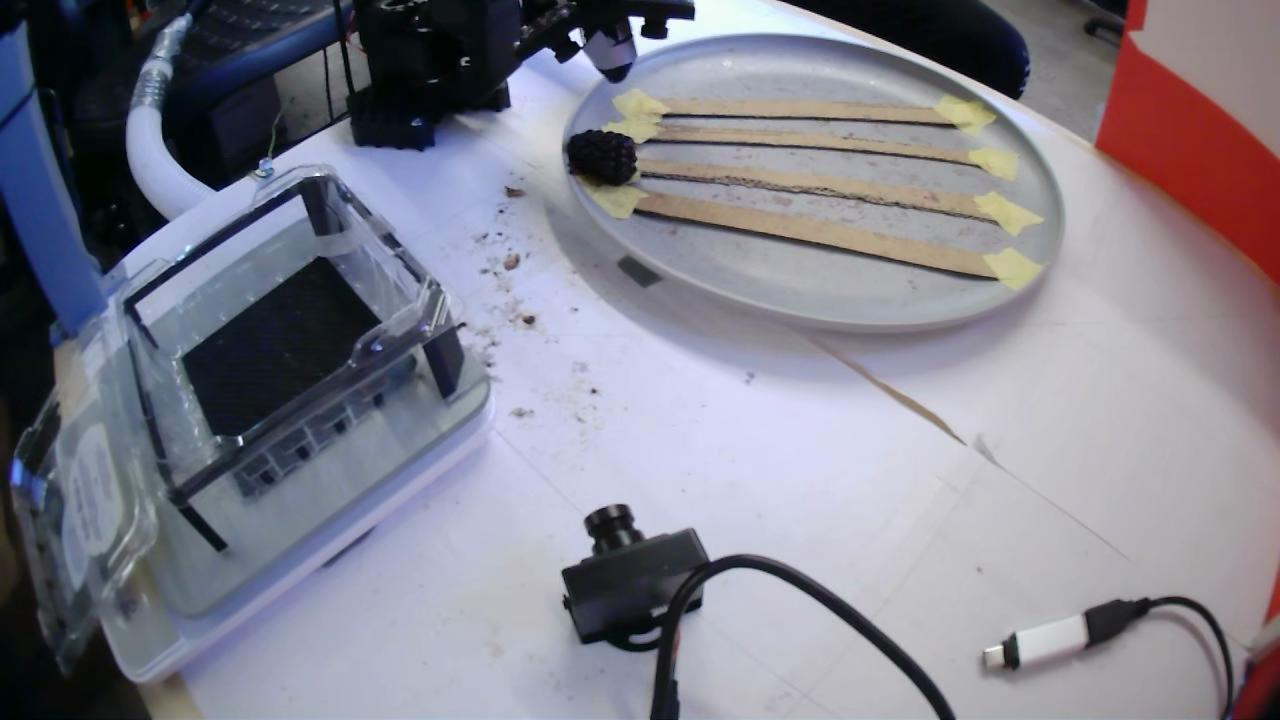berry: (565, 129, 637, 185)
